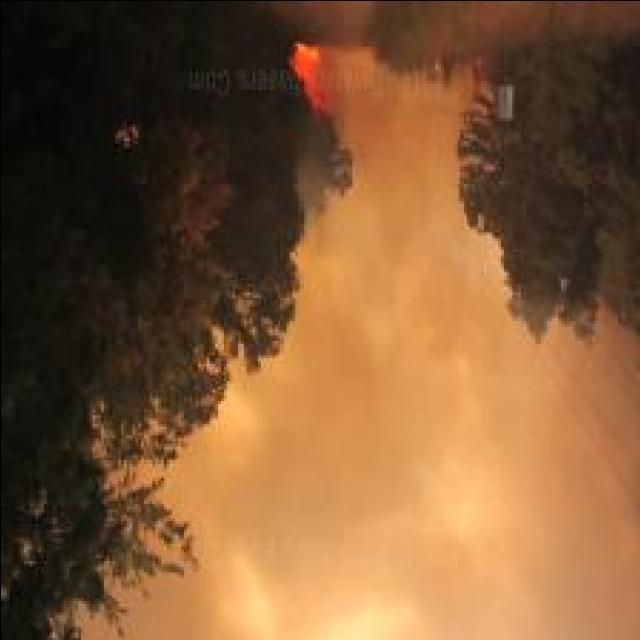Fire: (287, 42, 333, 118)
